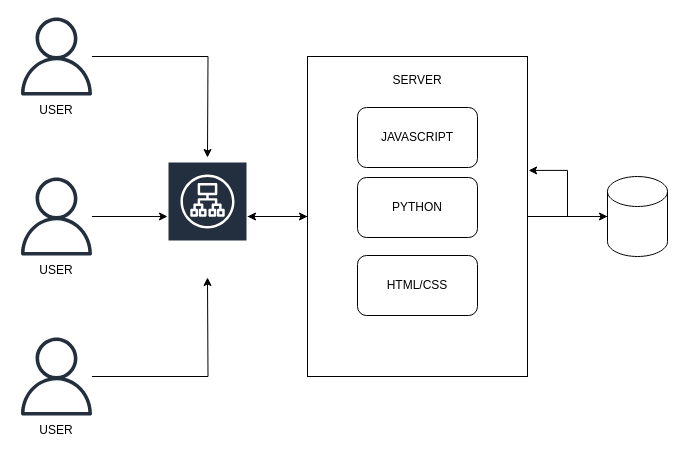
Some shapes in this 685 by 462 pixel diagram are drawn without their labels. The shapes that lost their labels are listed below. From the top down, each one's centre as x and y in pixels, then its label:
At (207,216): "Application Load Balancer".
At (637,216): "RDBMS".
